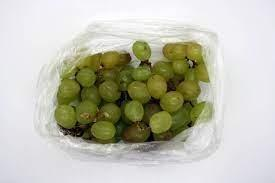Grape Rotten: (54, 40, 209, 144)
